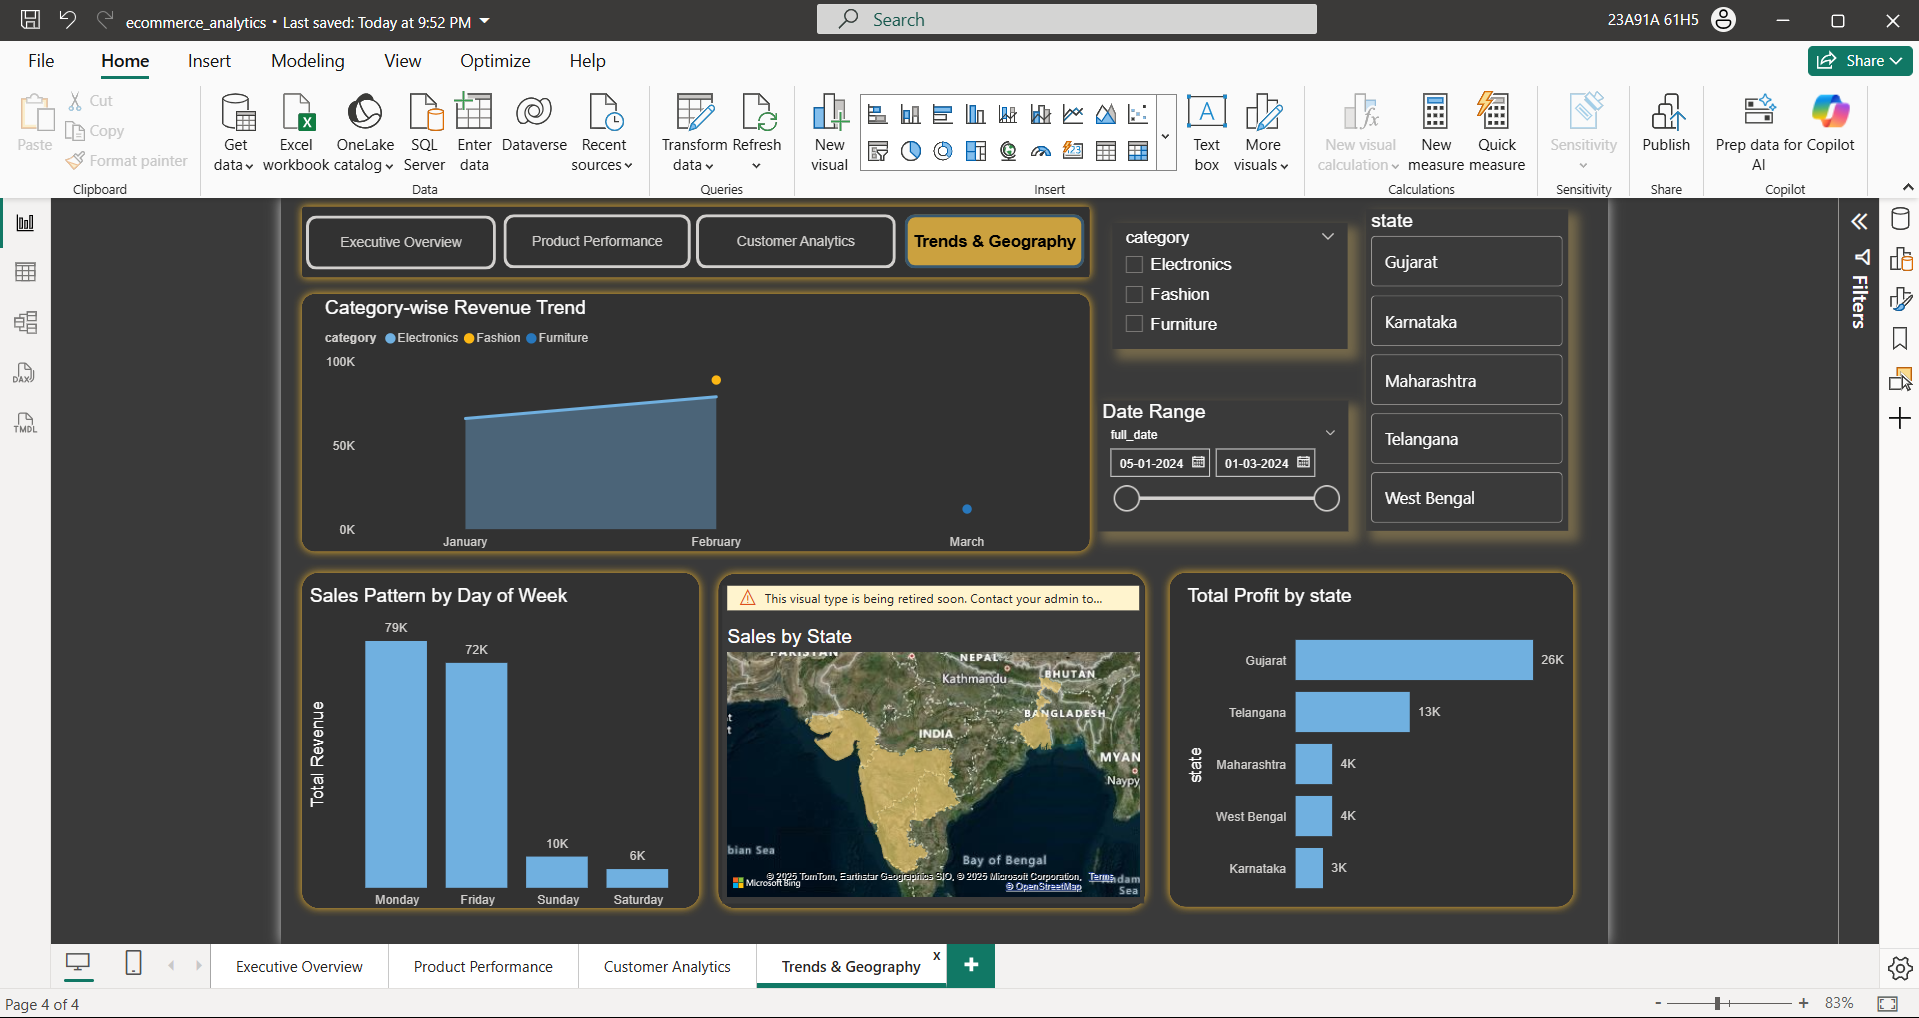

This screenshot's page, from the dashboard's own definition file:
{"tool":"powerbi","page":{"name":"Trends & Geography","canvas":[1280,720],"ordinal":3},"visuals":[{"type":"shape","box":[11.7,0,776.7,85],"z":0,"group":"g5"},{"type":"advancedSlicerVisual","fields":{"Values":["dim_customers.state"]},"box":[1047.5,11.2,195,310],"z":0},{"type":"shape","box":[11.7,85,776.7,265],"z":0,"group":"g1"},{"type":"shape","box":[11.7,353.3,400,340],"z":0,"group":"g2"},{"type":"shape","box":[413.8,355,428.8,338.8],"z":0,"group":"g3"},{"type":"actionButton","box":[213.8,16.1,180.8,52.3],"z":1000,"group":"g5"},{"type":"stackedAreaChart","title":"Category-wise Revenue Trend","fields":{"Category":["dim_date.month_name"],"Series":["dim_products.category"],"Y":["Measuress.Total Revenue"]},"box":[36.6,96.2,726.8,252.5],"z":1000,"group":"g1"},{"type":"slicer","title":"Date Range","fields":{"Values":["dim_date.full_date"]},"box":[787.5,195,242.5,126.2],"z":1000},{"type":"shape","box":[848.8,353.8,406.2,338.8],"z":1000,"group":"g4"},{"type":"clusteredColumnChart","title":"Sales Pattern by Day of Week","fields":{"Category":["dim_date.day_name"],"Y":["Measuress.Total Revenue"]},"box":[22.1,372.1,389.6,321.2],"z":1000,"group":"g2"},{"type":"filledMap","title":"Sales by State","fields":{"Category":["dim_customers.state"]},"box":[426.3,373.8,407.5,306.2],"z":1000,"group":"g3"},{"type":"clusteredBarChart","fields":{"Category":["dim_customers.state"],"Y":["Measuress.Total Profit"]},"box":[868.8,372.6,373.8,320],"z":1500,"group":"g4"},{"type":"actionButton","box":[400.6,16.1,192.8,52.3],"z":2000,"group":"g5"},{"type":"slicer","fields":{"Values":["dim_products.category"]},"box":[802.5,23.8,227.5,121.2],"z":2000},{"type":"actionButton","box":[601.7,16.1,173.3,52.3],"z":3000,"group":"g5"},{"type":"group","id":"g1","title":"Group 1","box":[11.7,85,776.7,265],"z":3000},{"type":"actionButton","box":[24.1,16.3,183.4,52.3],"z":4000,"group":"g5"},{"type":"group","id":"g2","title":"Group 2","box":[11.7,353.3,400,340],"z":4000},{"type":"group","id":"g3","title":"Group 3","box":[413.8,355,428.8,338.8],"z":5000},{"type":"group","id":"g4","title":"Group 4","box":[848.8,353.8,406.2,338.8],"z":6000},{"type":"group","id":"g5","title":"Group 4","box":[11.7,0,776.7,85],"z":7000}]}

Visuals, with their boxes on the page's 1280x720 design canvas (x1, y1, x2, y2). These are canvas units, not pixel positions in the 1919x1018 screenshot, which may show the page scaled, cropped or inside an application window:
shape: (left=12, top=0, right=788, bottom=85)
advancedSlicerVisual - dim_customers.state: (left=1048, top=11, right=1242, bottom=321)
shape: (left=12, top=85, right=788, bottom=350)
shape: (left=12, top=353, right=412, bottom=693)
shape: (left=414, top=355, right=843, bottom=694)
actionButton: (left=214, top=16, right=395, bottom=68)
"Category-wise Revenue Trend" stackedAreaChart: (left=37, top=96, right=763, bottom=349)
"Date Range" slicer: (left=788, top=195, right=1030, bottom=321)
shape: (left=849, top=354, right=1255, bottom=693)
"Sales Pattern by Day of Week" clusteredColumnChart: (left=22, top=372, right=412, bottom=693)
"Sales by State" filledMap: (left=426, top=374, right=834, bottom=680)
clusteredBarChart - dim_customers.state x Measuress.Total Profit: (left=869, top=373, right=1243, bottom=693)
actionButton: (left=401, top=16, right=593, bottom=68)
slicer - dim_products.category: (left=802, top=24, right=1030, bottom=145)
actionButton: (left=602, top=16, right=775, bottom=68)
"Group 1" group: (left=12, top=85, right=788, bottom=350)
actionButton: (left=24, top=16, right=208, bottom=69)
"Group 2" group: (left=12, top=353, right=412, bottom=693)
"Group 3" group: (left=414, top=355, right=843, bottom=694)
"Group 4" group: (left=849, top=354, right=1255, bottom=693)
"Group 4" group: (left=12, top=0, right=788, bottom=85)
